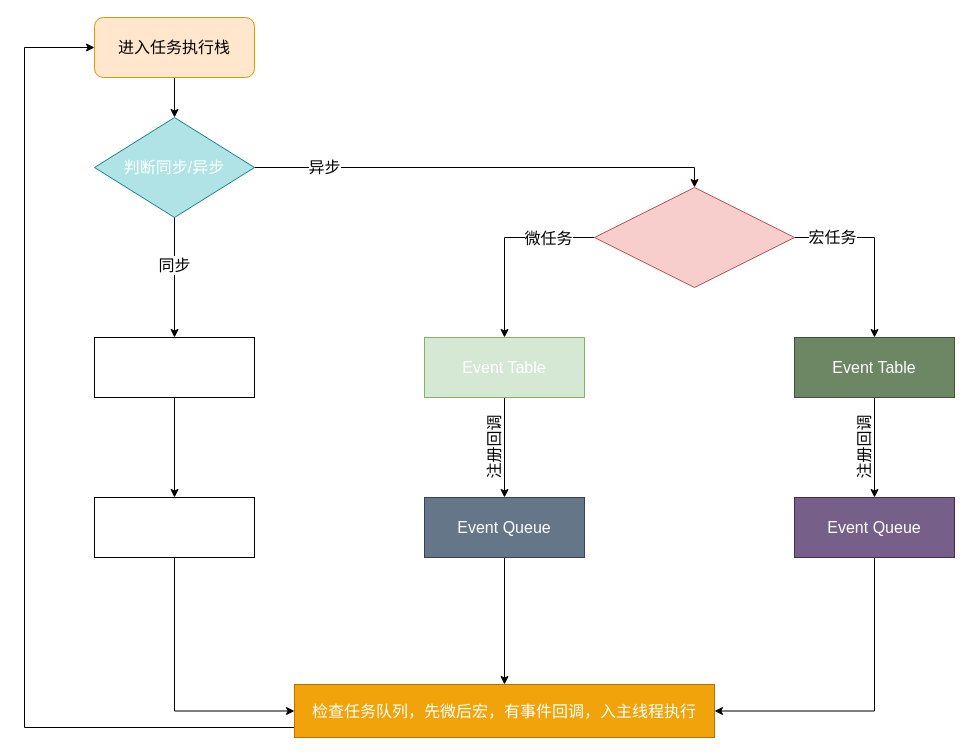
Some shapes in this 972 by 755 pixel diagram are drawn without their labels. Each missing label, with the centre of its shape:
"主线程" goes at [174,367].
"任务执行完毕" goes at [174,527].
"判断微任务/宏任务" goes at [694,237].
